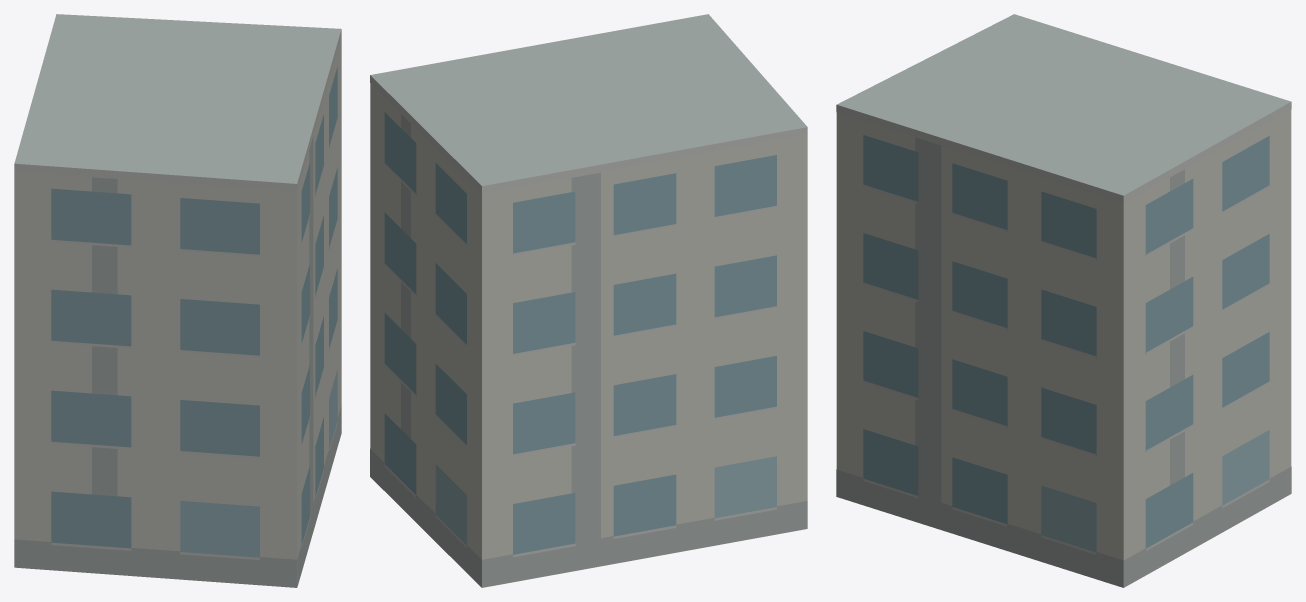
File: residential-0923ecd2-9687-4b45-b62d-f88115e3b59a.glb
The picture shows the model from 3 angles, left to right: view 1: azimuth 30°, elevation 25°; view 2: azimuth 150°, elevation 25°; view 3: azimuth 270°, elevation 25°; orthographic projection. The views are drawn at different scales.
Parts seen in each view (by area): view 1: residential-0923ecd2-9687-4b45-b62d-f88115e3b59a.tmp; view 2: residential-0923ecd2-9687-4b45-b62d-f88115e3b59a.tmp; view 3: residential-0923ecd2-9687-4b45-b62d-f88115e3b59a.tmp.
Part boxes in pixels (x1,y1,x2,y2): residential-0923ecd2-9687-4b45-b62d-f88115e3b59a.tmp: (14, 14, 341, 587); residential-0923ecd2-9687-4b45-b62d-f88115e3b59a.tmp: (370, 14, 807, 587); residential-0923ecd2-9687-4b45-b62d-f88115e3b59a.tmp: (836, 14, 1291, 587).
Size of the model in its own units: 12.13 by 12.2 by 12.83.
